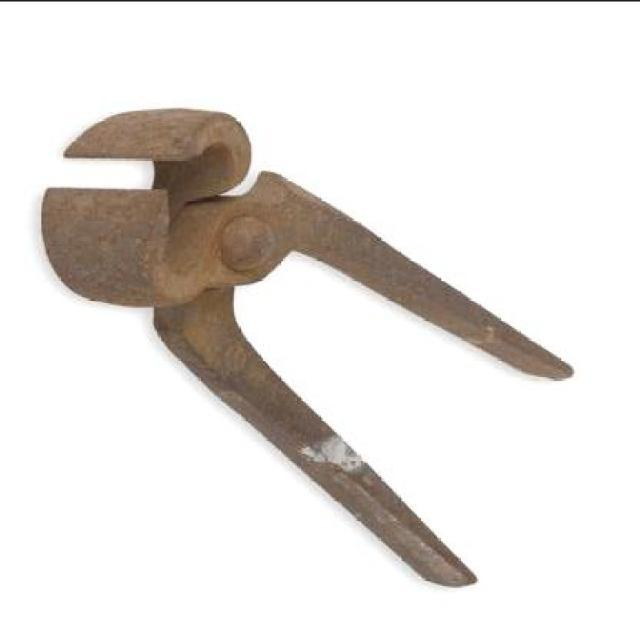pliers: (42, 97, 576, 583)
